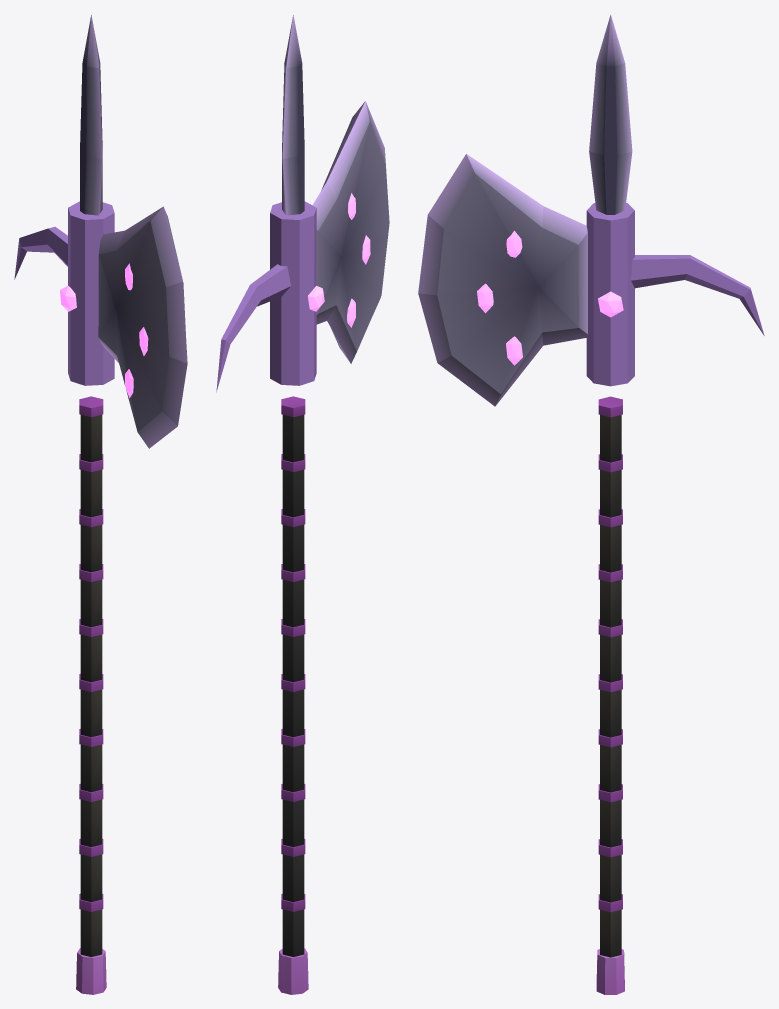
Rendered from polearm_epic.glb.
3 views of the same model, side by side, from view 1: azimuth 30°, elevation 25°; view 2: azimuth 150°, elevation 25°; view 3: azimuth 270°, elevation 25° (orthographic).
Visible parts, largest first — view 1: polearm_epic_export; view 2: polearm_epic_export; view 3: polearm_epic_export.
Part boxes in pixels (x1=…): polearm_epic_export: x1=14, y1=15, x2=187, y2=994; polearm_epic_export: x1=216, y1=15, x2=389, y2=994; polearm_epic_export: x1=418, y1=14, x2=764, y2=994.
Size of the model in its own units: 13.55 by 223 by 72.
